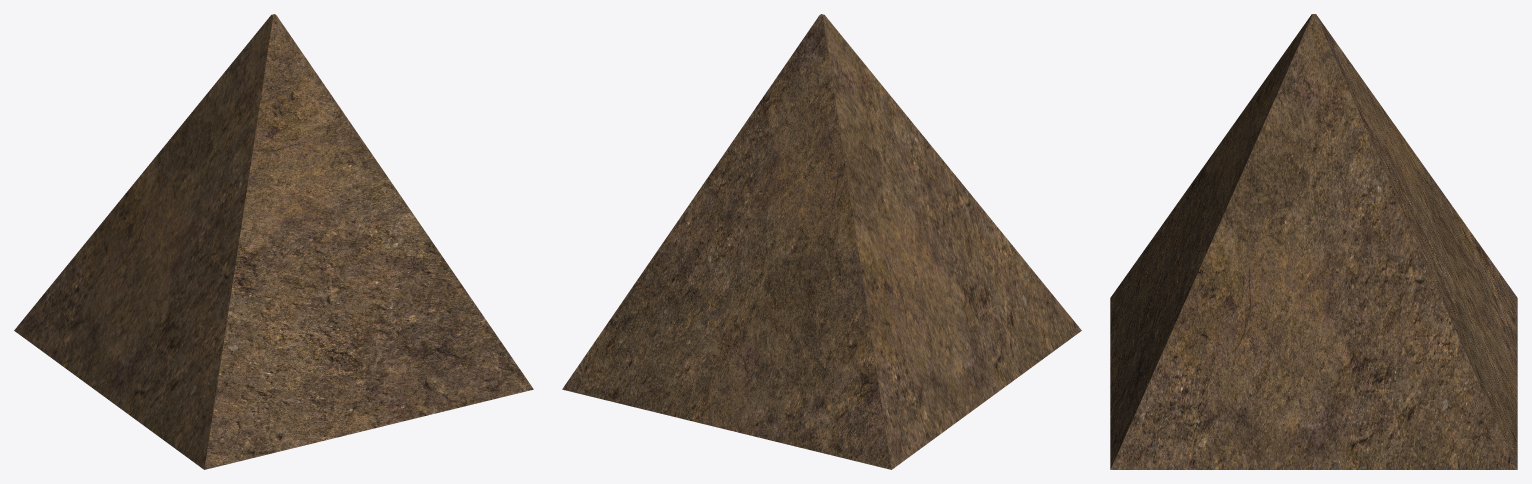
3 renders of one model, left to right at view 1: azimuth 30°, elevation 25°; view 2: azimuth 150°, elevation 25°; view 3: azimuth 270°, elevation 25°, orthographic. The views are drawn at different scales.
Visible parts, largest first — view 1: pyramid 03; view 2: pyramid 03; view 3: pyramid 03.
Part boxes in pixels (left/top/right/bottom): pyramid 03: left=14, top=14, right=533, bottom=469; pyramid 03: left=562, top=14, right=1081, bottom=469; pyramid 03: left=1110, top=14, right=1517, bottom=469.
Size of the model in its own units: 0.9756 by 0.9756 by 0.9756.
Materials: 1 (1 with a texture image).
